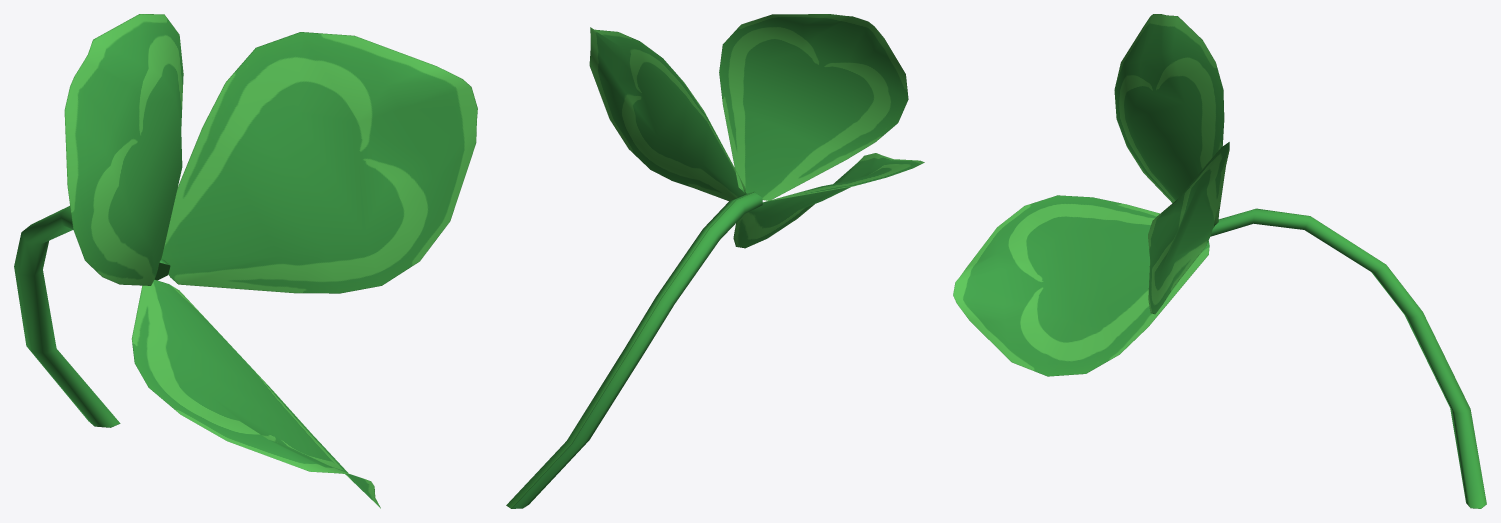
Rendered from SM_Trefle1.fbx.
3 renders of one model, left to right at view 1: azimuth 30°, elevation 25°; view 2: azimuth 150°, elevation 25°; view 3: azimuth 270°, elevation 25°, orthographic. The views are drawn at different scales.
Visible parts, largest first — view 1: Trefle_Tige_02; view 2: Trefle_Tige_02; view 3: Trefle_Tige_02.
Boxes of the visible parts, x1=… form: Trefle_Tige_02: x1=14, y1=14, x2=477, y2=508; Trefle_Tige_02: x1=506, y1=14, x2=924, y2=508; Trefle_Tige_02: x1=953, y1=14, x2=1486, y2=508.
Size of the model in its own units: 8.16 by 12.76 by 10.86.
1 material, 1 textured.
